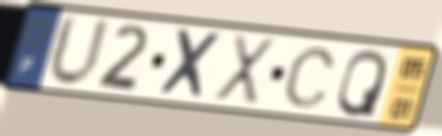2: (95, 23, 150, 94)
C: (280, 45, 339, 110)
Q: (334, 47, 391, 119)
U: (45, 11, 115, 92)
X: (155, 27, 225, 104), (210, 32, 279, 110)
